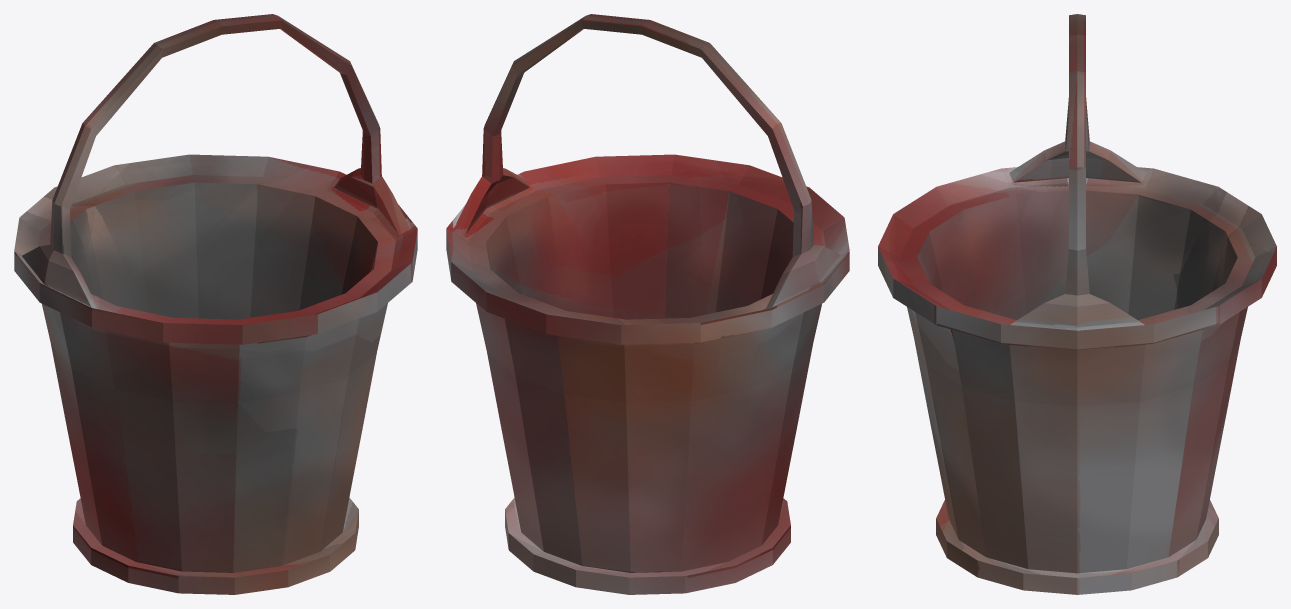
File: Bucket (1).fbx
3 views of the same model, side by side, from view 1: azimuth 30°, elevation 25°; view 2: azimuth 150°, elevation 25°; view 3: azimuth 270°, elevation 25° (orthographic). The views are drawn at different scales.
Visible parts, largest first — view 1: Cylinder; view 2: Cylinder; view 3: Cylinder.
Part boxes in pixels (left/top/right/bottom): Cylinder: left=14, top=14, right=417, bottom=594; Cylinder: left=446, top=14, right=849, bottom=594; Cylinder: left=878, top=14, right=1276, bottom=594.
Bounding box in the file's own units: 372 × 516 × 372.
Materials: 1 (1 with a texture image).
